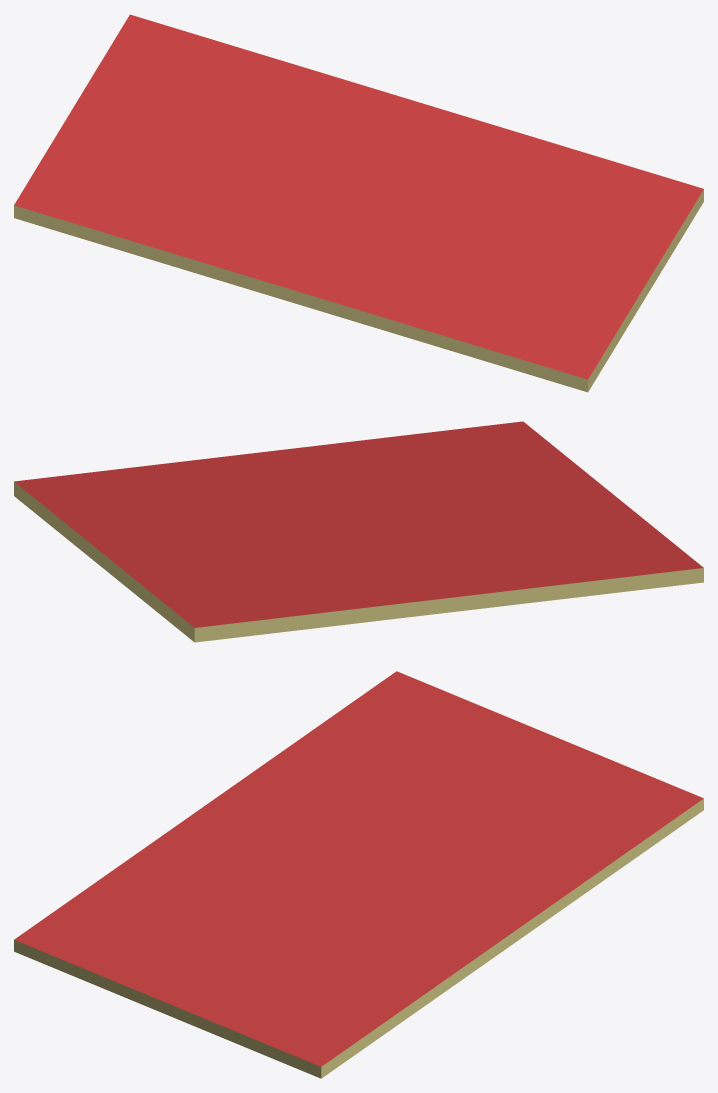
The picture shows the model from 3 angles, top to bottom: view 1: azimuth 30°, elevation 25°; view 2: azimuth 150°, elevation 25°; view 3: azimuth 270°, elevation 25°; orthographic projection. The views are drawn at different scales.
Size of the model in its own units: 5.28 by 5.27 by 0.972.
